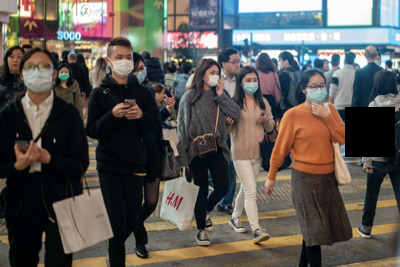with_mask: (26, 58, 53, 94), (111, 50, 133, 76), (307, 80, 328, 104), (243, 75, 260, 95), (206, 69, 221, 88), (134, 63, 148, 82), (58, 69, 70, 80), (278, 58, 288, 70), (375, 58, 383, 66)
without_mask: (7, 52, 24, 72), (226, 56, 241, 76), (155, 91, 166, 101)
